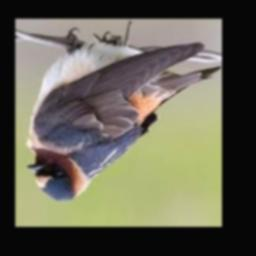Swallow: (26, 41, 221, 202)
